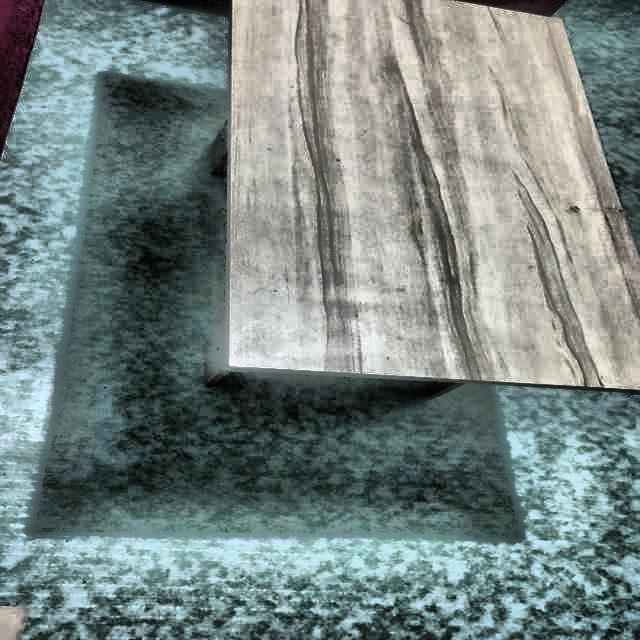mesa: (208, 0, 640, 415)
